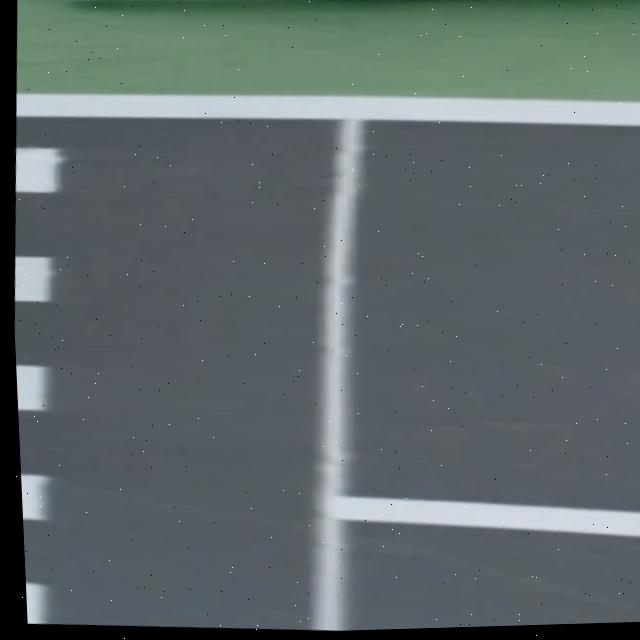center: (330, 496, 640, 537)
right: (15, 94, 640, 127)
